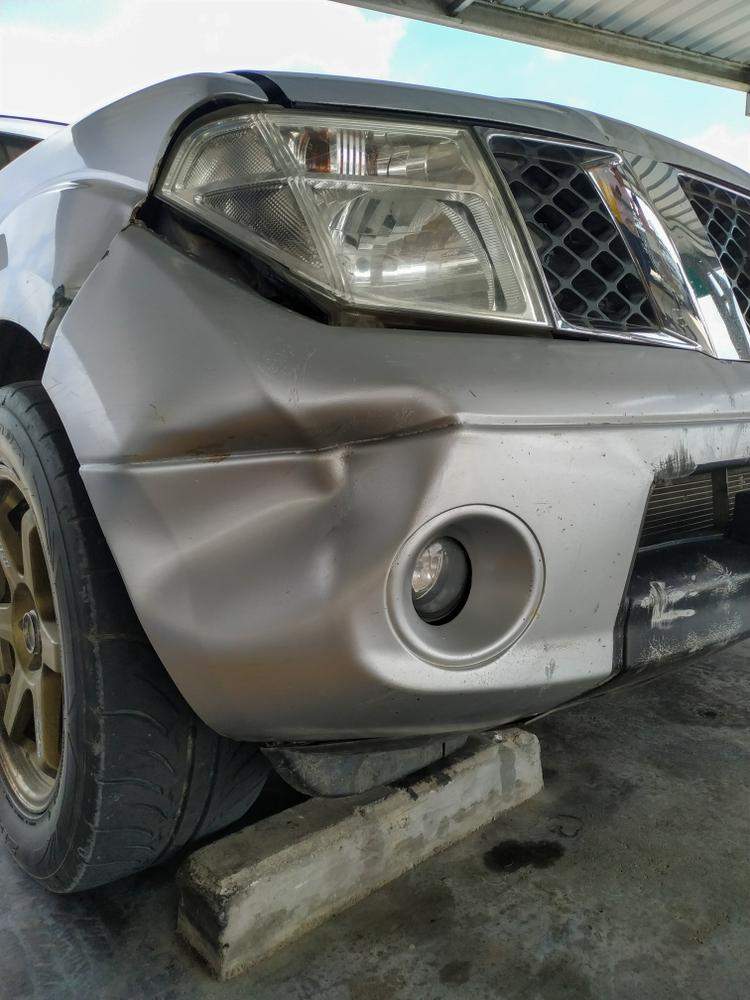dent: (112, 391, 457, 625)
scratch: (642, 558, 738, 630), (649, 442, 699, 480)
